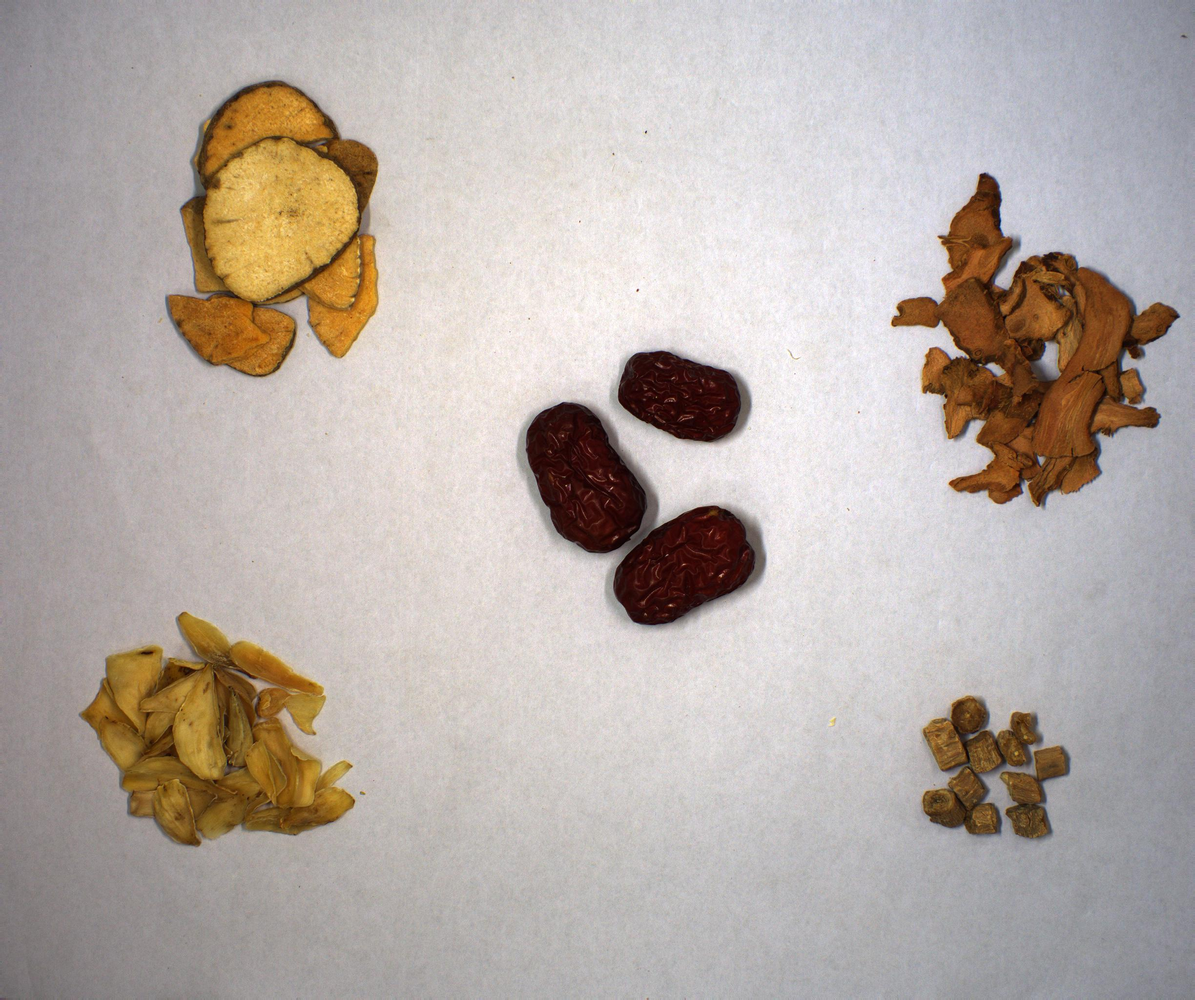baihe: (62, 594, 423, 912)
dazao: (518, 349, 788, 645)
gaoliangjiang: (885, 152, 1191, 545)
niuxi: (886, 693, 1102, 859)
zexie: (162, 70, 414, 417)
